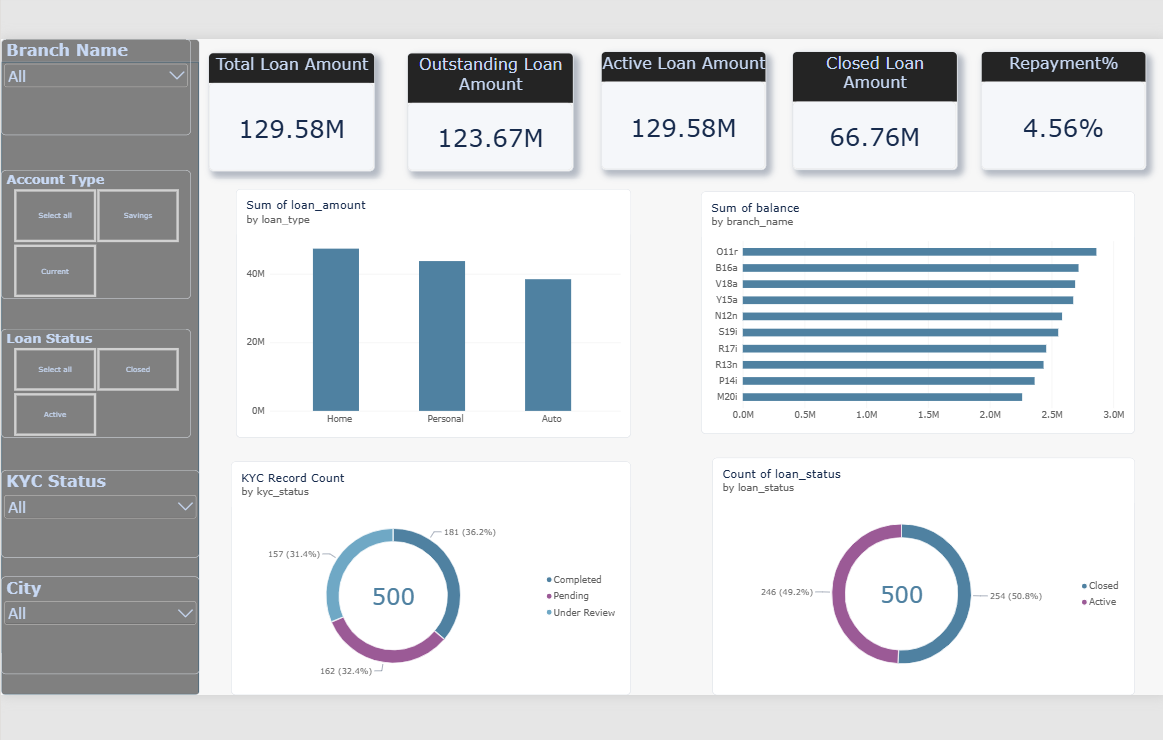

What the dashboard file says about the page in this screenshot:
{"tool":"powerbi","page":{"name":"Loans & KYC","canvas":[1920,1080],"ordinal":3},"visuals":[{"type":"donutChart","fields":{"Category":["kyc.kyc_status"],"Y":["calculate measure.KYC Record Count"]},"box":[378.7,695.7,658.7,384.9],"z":0},{"type":"clusteredColumnChart","fields":{"Category":["loans1.loan_type"],"Y":["Sum(loans1.loan_amount)"]},"box":[387,247,650.4,409.6],"z":1000},{"type":"donutChart","fields":{"Category":["loans1.loan_status"],"Y":["CountNonNull(loans1.loan_status)"]},"box":[1171.2,689.5,695.7,391.1],"z":2000},{"type":"barChart","fields":{"Category":["branches.branch_name"],"Y":["Sum(accountsdata.balance)"]},"box":[1152.7,251.1,714.2,399.3],"z":3000},{"type":"cardVisual","title":"Total Loan Amount","fields":{"Data":["calculate measure.Total Loan Amount"]},"box":[341.7,22.6,273.8,195.5],"z":4000},{"type":"cardVisual","title":"Outstanding Loan Amount","fields":{"Data":["calculate measure.Outstanding Loan Amount"]},"box":[669,22.6,273.8,195.5],"z":5000},{"type":"cardVisual","title":"Active Loan Amount","fields":{"Data":["calculate measure.Active Loan Amount"]},"box":[988,20.6,271.7,195.5],"z":6000},{"type":"cardVisual","title":"Closed Loan Amount","fields":{"Data":["calculate measure.Closed_Loan_Amount"]},"box":[1302.9,20.6,271.7,195.5],"z":7000},{"type":"cardVisual","title":"Repayment%","fields":{"Data":["calculate measure.Repayment %"]},"box":[1613.7,20.6,271.7,195.5],"z":8000},{"type":"shape","title":"Branch Name","box":[0,0,327.3,1080.6],"z":9000},{"type":"slicer","fields":{"Values":["branches.branch_name"]},"box":[0,0,312.9,158.5],"z":10000},{"type":"slicer","fields":{"Values":["accountsdata.account_type"]},"box":[0,216.1,312.9,212],"z":11000},{"type":"slicer","fields":{"Values":["loans1.loan_status"]},"box":[0,477.5,312.9,179.1],"z":12000},{"type":"slicer","fields":{"Values":["kyc.kyc_status"]},"box":[0,710.1,327.3,144.1],"z":12001},{"type":"slicer","fields":{"Values":["updated_customersdata.city"]},"box":[0,885.1,327.3,160.5],"z":12002}]}

Visuals, with their boxes on the page's 1920x1080 design canvas (x1, y1, x2, y2). These are canvas units, not pixel positions in the 1163x740 screenshot, which may show the page scaled, cropped or inside an application window:
donutChart - kyc.kyc_status x calculate measure.KYC Record Count: (379, 696, 1037, 1081)
clusteredColumnChart - loans1.loan_type x Sum(loans1.loan_amount): (387, 247, 1037, 657)
donutChart - loans1.loan_status x CountNonNull(loans1.loan_status): (1171, 690, 1867, 1081)
barChart - branches.branch_name x Sum(accountsdata.balance): (1153, 251, 1867, 650)
"Total Loan Amount" cardVisual: (342, 23, 616, 218)
"Outstanding Loan Amount" cardVisual: (669, 23, 943, 218)
"Active Loan Amount" cardVisual: (988, 21, 1260, 216)
"Closed Loan Amount" cardVisual: (1303, 21, 1575, 216)
"Repayment%" cardVisual: (1614, 21, 1885, 216)
"Branch Name" shape: (0, 0, 327, 1081)
slicer - branches.branch_name: (0, 0, 313, 158)
slicer - accountsdata.account_type: (0, 216, 313, 428)
slicer - loans1.loan_status: (0, 478, 313, 657)
slicer - kyc.kyc_status: (0, 710, 327, 854)
slicer - updated_customersdata.city: (0, 885, 327, 1046)
